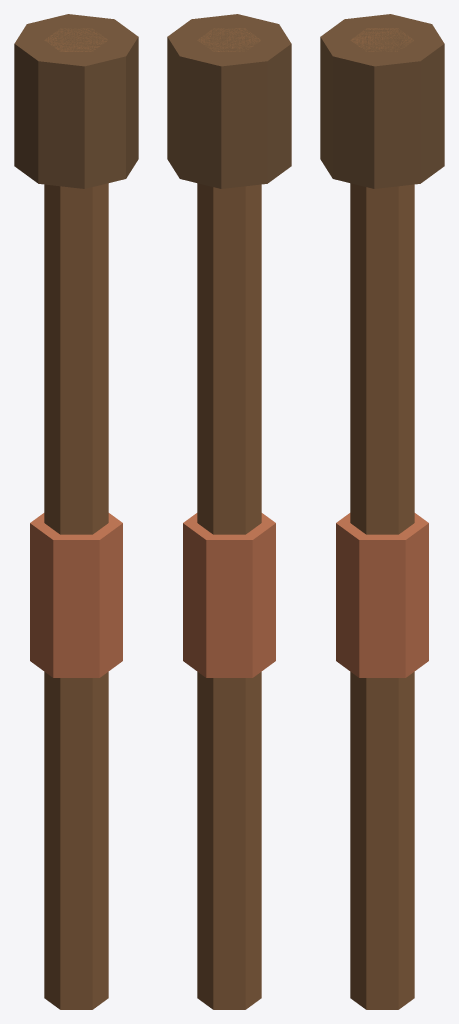
File: sparring_spear.glb
3 renders of one model, left to right at view 1: azimuth 30°, elevation 25°; view 2: azimuth 150°, elevation 25°; view 3: azimuth 330°, elevation 25°, orthographic.
Parts seen in each view (by area): view 1: sparring_spear; view 2: sparring_spear; view 3: sparring_spear.
Boxes of the visible parts, box(x1,y1,x2,y2) form: sparring_spear: box(14, 14, 138, 1009); sparring_spear: box(167, 14, 291, 1009); sparring_spear: box(320, 14, 444, 1009).
Size of the model in its own units: 0.1367 by 1.25 by 0.1367.
